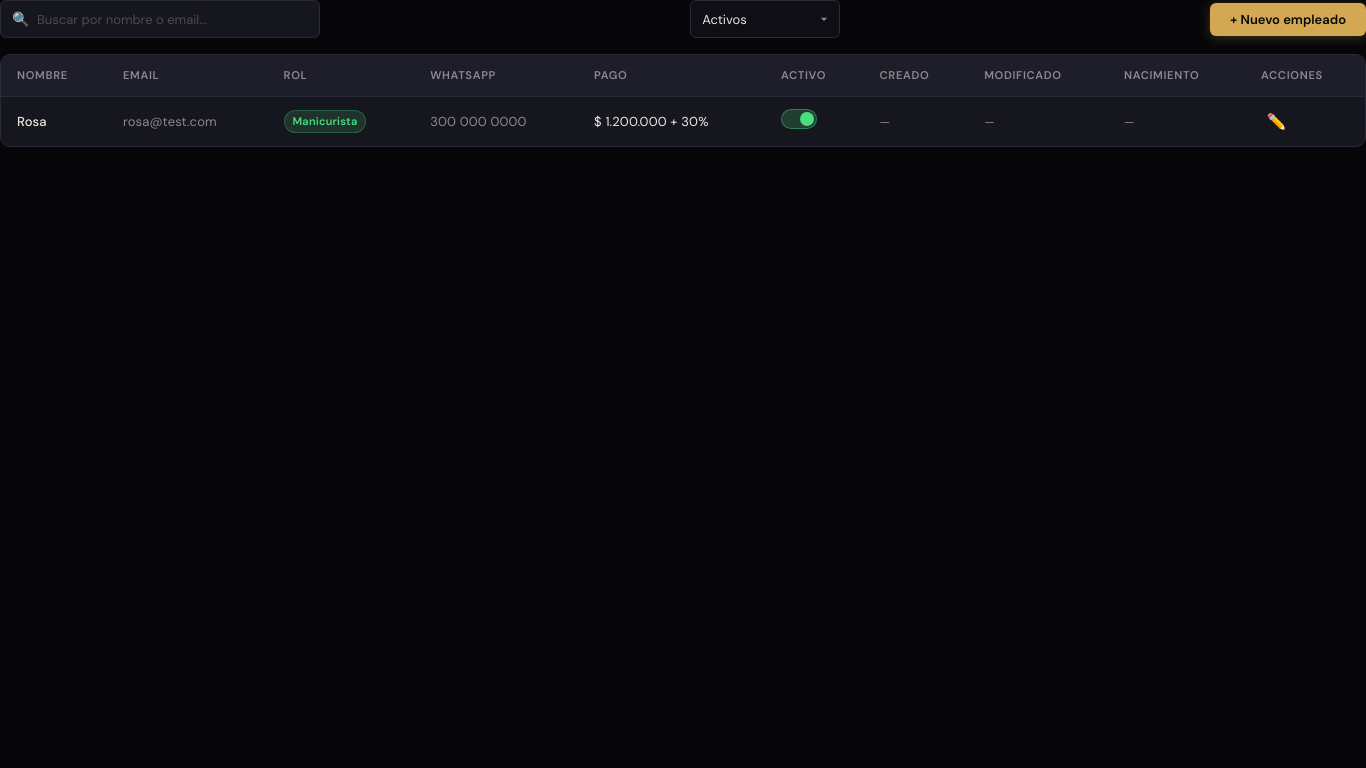
Test: EmpleadasPage — esquema de pago (tipoPago) › edición de empleada MIXTO existente precarga modo Mixto con ambos campos
Click the button named "Editar" at (1277, 122), box [1261,110,1292,134]
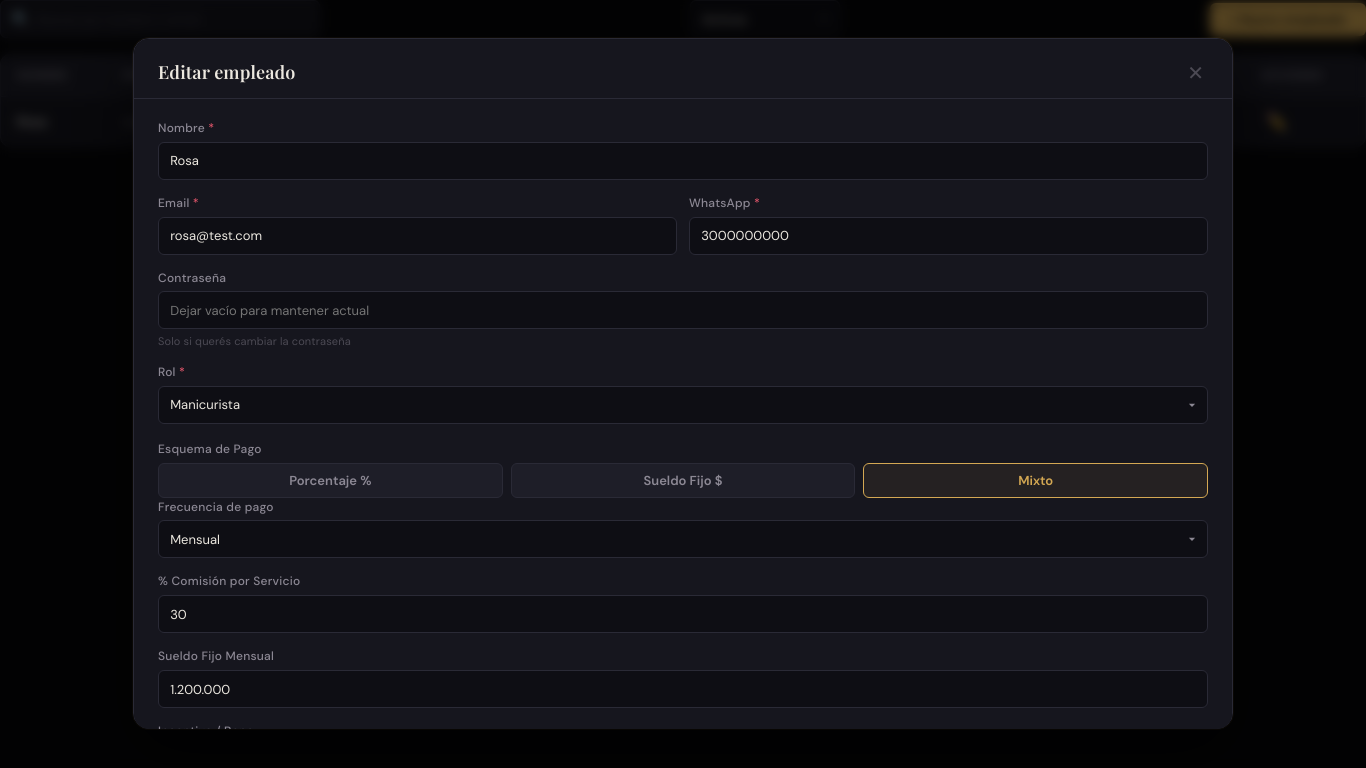
Now the field showing "1.200.000" below "Sueldo Fijo Mensual" is shown, box [158,670,1208,708]
Now the number field showing "30" is shown, box [158,596,1208,634]
